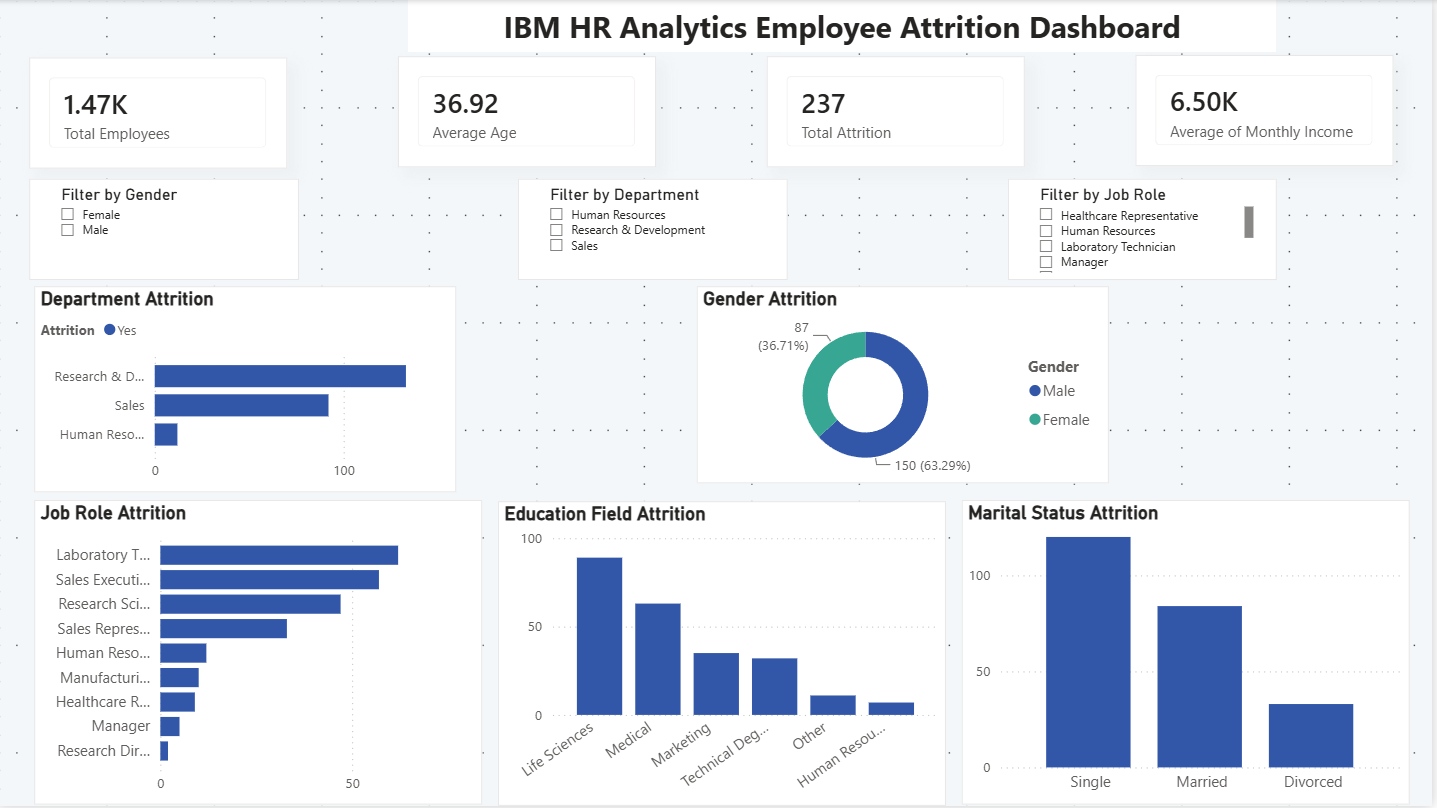

What the dashboard file says about the page in this screenshot:
{"tool":"powerbi","page":{"name":"Page 1","canvas":[1280,720],"ordinal":0},"visuals":[{"type":"cardVisual","fields":{"Data":["Count(WA_Fn-UseC_-HR-Employee-Attrition.EmployeeNumber)"]},"box":[28.2,50.8,230.3,99.4],"z":0},{"type":"cardVisual","fields":{"Data":["Avg(WA_Fn-UseC_-HR-Employee-Attrition.Age)"]},"box":[357.4,50.3,230,99],"z":1000},{"type":"cardVisual","fields":{"Data":["Avg(WA_Fn-UseC_-HR-Employee-Attrition.MonthlyIncome)"]},"box":[1015.4,49.4,230.5,99],"z":2000},{"type":"cardVisual","fields":{"Data":["Count(WA_Fn-UseC_-HR-Employee-Attrition.EmployeeNumber)"]},"box":[686.2,49.9,230.4,99],"z":3000},{"type":"clusteredBarChart","title":"Department Attrition","fields":{"Category":["WA_Fn-UseC_-HR-Employee-Attrition.Department"],"Y":["Count(WA_Fn-UseC_-HR-Employee-Attrition.EmployeeNumber)"],"Series":["WA_Fn-UseC_-HR-Employee-Attrition.Attrition"]},"box":[32,256,377,184],"z":4000},{"type":"donutChart","title":"Gender Attrition","fields":{"Category":["WA_Fn-UseC_-HR-Employee-Attrition.Gender"],"Y":["Count(WA_Fn-UseC_-HR-Employee-Attrition.EmployeeNumber)"]},"box":[624,256,368,176],"z":5000},{"type":"clusteredBarChart","title":"Job Role Attrition","fields":{"Category":["WA_Fn-UseC_-HR-Employee-Attrition.JobRole"],"Y":["Count(WA_Fn-UseC_-HR-Employee-Attrition.EmployeeNumber)"]},"box":[32,447,400,272],"z":6000},{"type":"clusteredColumnChart","title":"Education Field Attrition","fields":{"Category":["WA_Fn-UseC_-HR-Employee-Attrition.EducationField"],"Y":["Count(WA_Fn-UseC_-HR-Employee-Attrition.EmployeeNumber)"]},"box":[446.2,448,400,272],"z":7000},{"type":"textbox","box":[366.4,0,775.3,46.7],"z":8000},{"type":"slicer","title":"Filter by Gender","fields":{"Values":["WA_Fn-UseC_-HR-Employee-Attrition.Gender"]},"box":[28.2,159.4,240.5,90.3],"z":9000},{"type":"slicer","title":"Filter by Department","fields":{"Values":["WA_Fn-UseC_-HR-Employee-Attrition.Department"]},"box":[464.9,159.4,240.5,90.3],"z":10000},{"type":"slicer","title":"Filter by Job Role","fields":{"Values":["WA_Fn-UseC_-HR-Employee-Attrition.JobRole"]},"box":[901.5,159.2,240.1,90.6],"z":11000},{"type":"clusteredColumnChart","title":"Marital Status Attrition","fields":{"Category":["WA_Fn-UseC_-HR-Employee-Attrition.MaritalStatus"],"Y":["Count(WA_Fn-UseC_-HR-Employee-Attrition.EmployeeNumber)"]},"box":[860.4,446,400,272],"z":12000}]}

Visuals, with their boxes in screenshot pixels (x1, y1, x2, y2), scaled from the page's 1280x720 canvas onto the 1437x808 screenshot:
cardVisual - Count(WA_Fn-UseC_-HR-Employee-Attrition.EmployeeNumber): {"x1": 32, "y1": 57, "x2": 290, "y2": 169}
cardVisual - Avg(WA_Fn-UseC_-HR-Employee-Attrition.Age): {"x1": 401, "y1": 56, "x2": 659, "y2": 168}
cardVisual - Avg(WA_Fn-UseC_-HR-Employee-Attrition.MonthlyIncome): {"x1": 1140, "y1": 55, "x2": 1399, "y2": 167}
cardVisual - Count(WA_Fn-UseC_-HR-Employee-Attrition.EmployeeNumber): {"x1": 770, "y1": 56, "x2": 1029, "y2": 167}
"Department Attrition" clusteredBarChart: {"x1": 36, "y1": 287, "x2": 459, "y2": 494}
"Gender Attrition" donutChart: {"x1": 701, "y1": 287, "x2": 1114, "y2": 485}
"Job Role Attrition" clusteredBarChart: {"x1": 36, "y1": 502, "x2": 485, "y2": 807}
"Education Field Attrition" clusteredColumnChart: {"x1": 501, "y1": 503, "x2": 950, "y2": 807}
textbox: {"x1": 411, "y1": 0, "x2": 1282, "y2": 52}
"Filter by Gender" slicer: {"x1": 32, "y1": 179, "x2": 302, "y2": 280}
"Filter by Department" slicer: {"x1": 522, "y1": 179, "x2": 792, "y2": 280}
"Filter by Job Role" slicer: {"x1": 1012, "y1": 179, "x2": 1282, "y2": 280}
"Marital Status Attrition" clusteredColumnChart: {"x1": 966, "y1": 501, "x2": 1415, "y2": 806}
